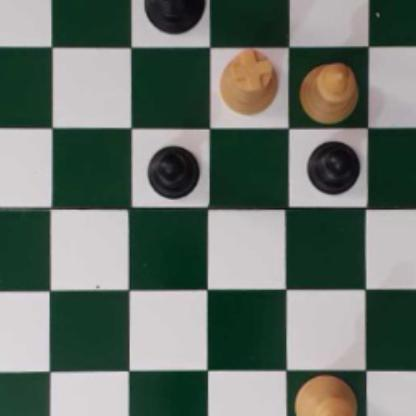black-king: (143, 0, 206, 36)
black-pawn: (143, 141, 201, 200), (306, 136, 360, 196)
white-bishop: (298, 61, 356, 125)
white-king: (291, 371, 358, 416)
white-rook: (218, 48, 280, 116)
